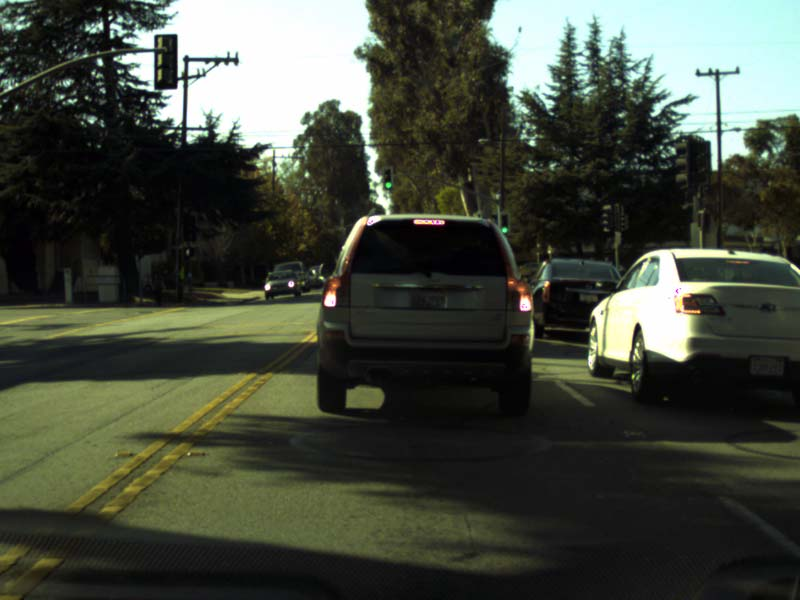Green: (383, 168, 392, 190), (500, 215, 507, 233)
